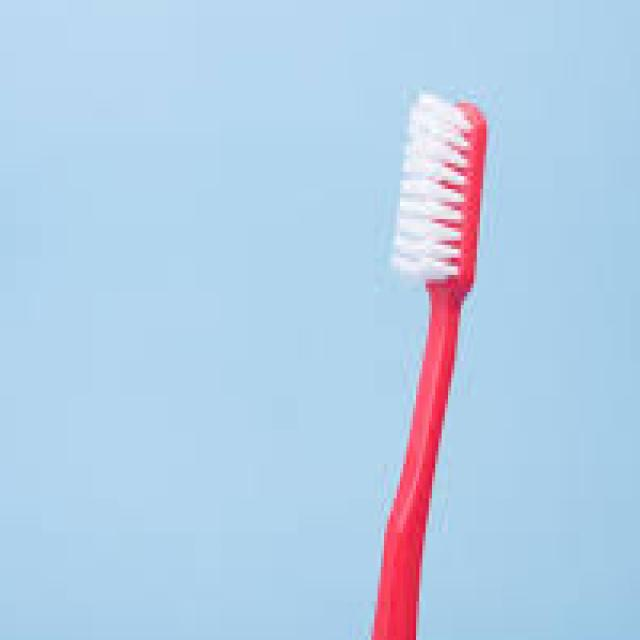organic: (365, 69, 480, 631)
